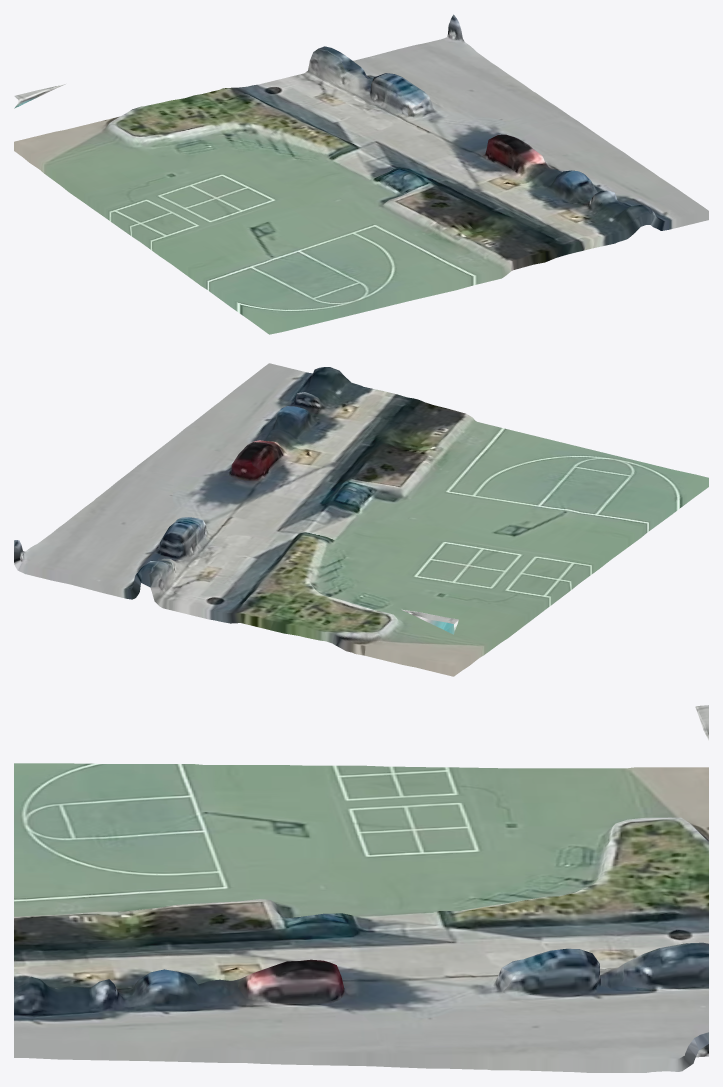
Rendered from z20-167737-405193-h0-yup-uvflip-v3-world.glb.
The picture shows the model from 3 angles, top to bottom: view 1: azimuth 30°, elevation 25°; view 2: azimuth 150°, elevation 25°; view 3: azimuth 270°, elevation 25°; orthographic projection. The views are drawn at different scales.
Size of the model in its own units: 30.16 by 3.76 by 30.32.
Materials: 1 (1 with a texture image).
